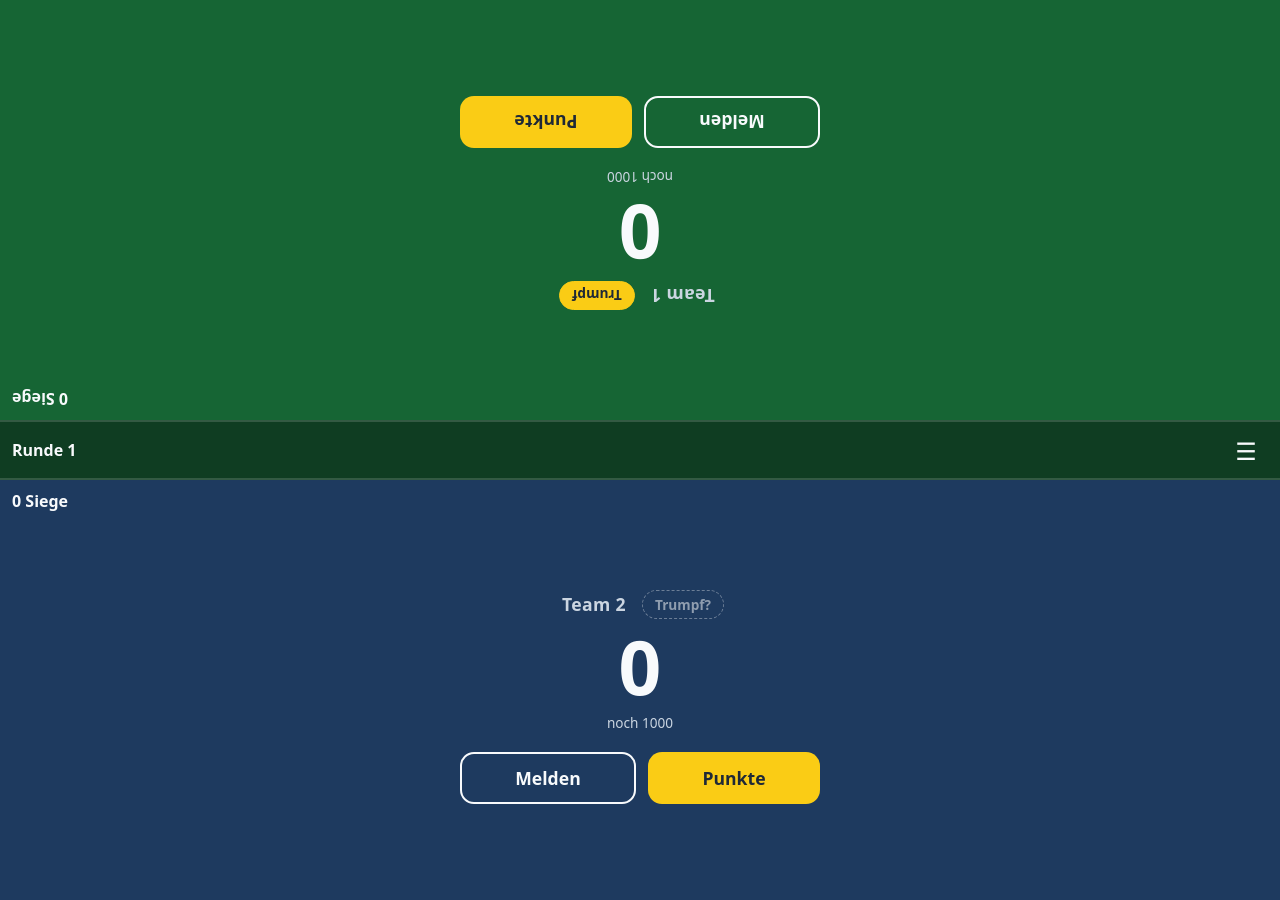
Test: App › renames a team
The image size is (1280, 900).
Click the button "Team 1".
click(683, 296)  # box [645, 283, 721, 309]
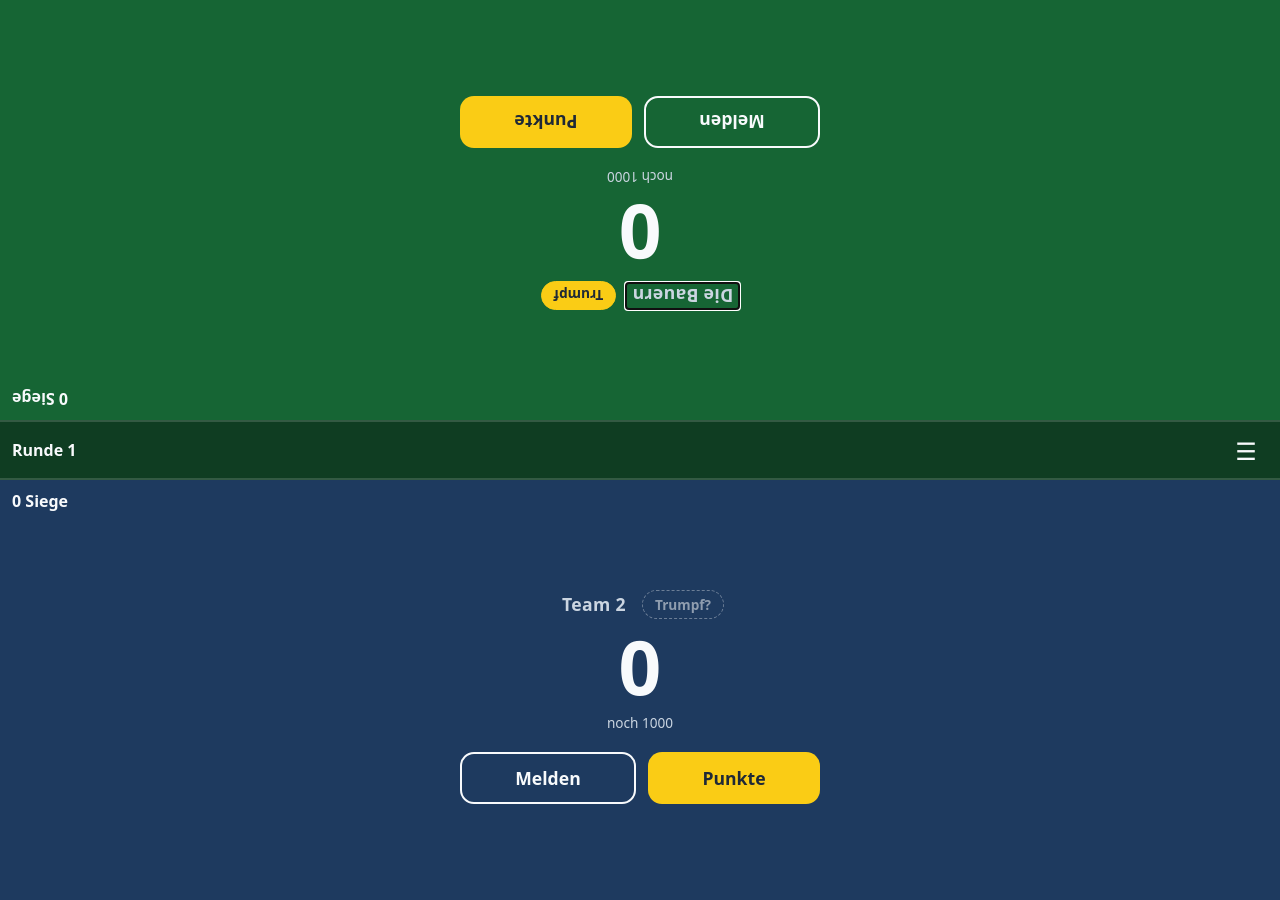
Expected: the button "Die Bauern" is shown, [626, 283, 739, 309]
